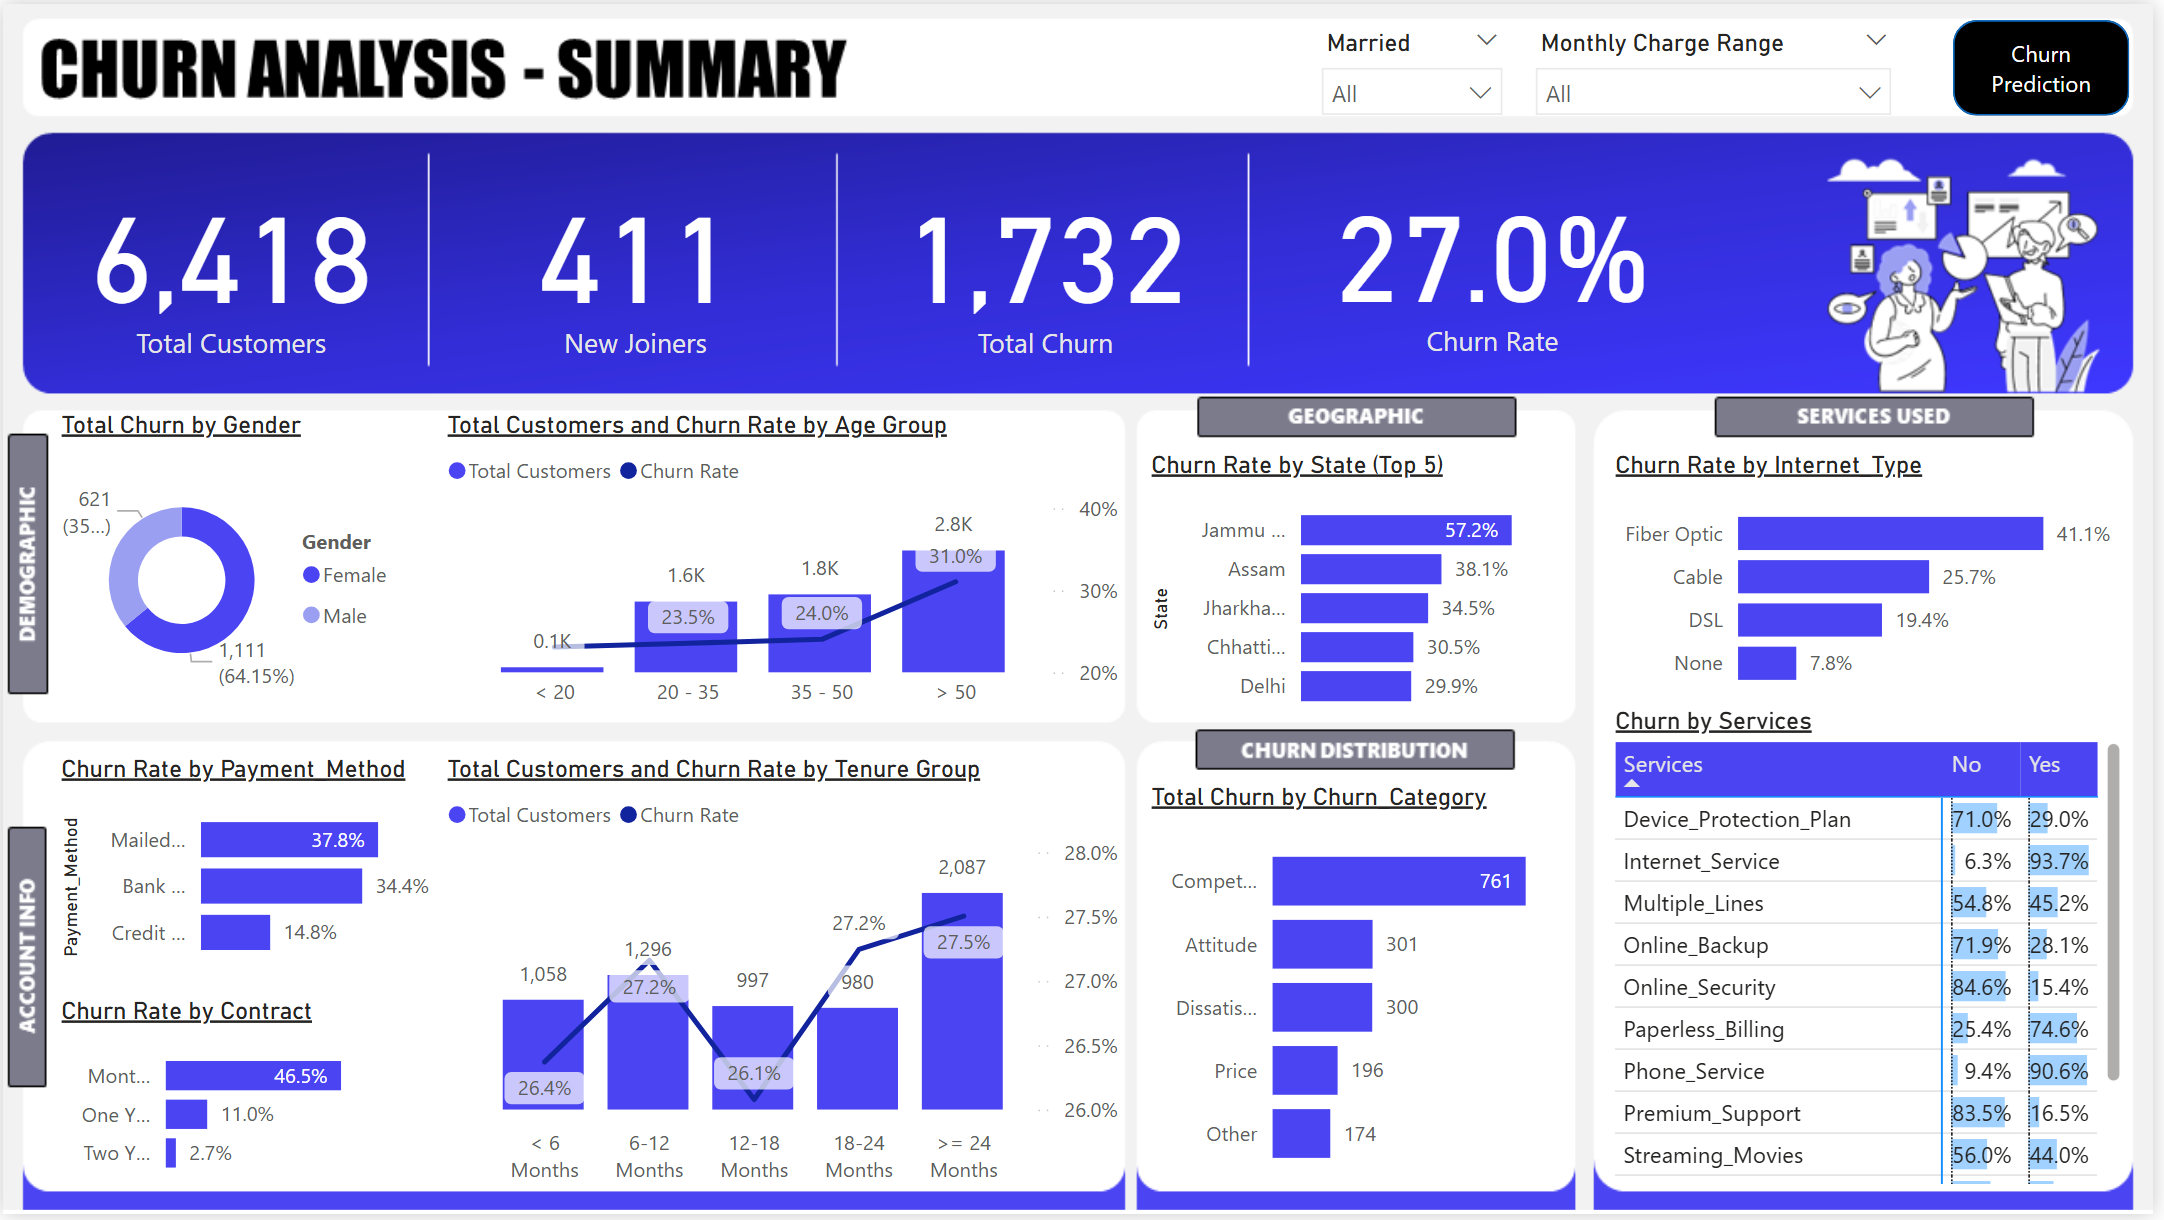

What the dashboard file says about the page in this screenshot:
{"tool":"powerbi","page":{"name":"Summary","canvas":[1280,720],"ordinal":0},"visuals":[{"type":"card","fields":{"Values":["tbl_Measures.Total Customers"]},"box":[17.8,73.9,235.9,158.1],"z":0},{"type":"card","fields":{"Values":["tbl_Measures.New Joiners"]},"box":[256.3,73.9,241,158.1],"z":1000},{"type":"card","fields":{"Values":["tbl_Measures.Total Churn"]},"box":[499.8,73.9,241,158.1],"z":2000},{"type":"card","fields":{"Values":["tbl_Measures.Churn Rate"]},"box":[784.1,76.5,204,151.7],"z":3000},{"type":"donutChart","fields":{"Category":["prod_Churn.Gender"],"Y":["tbl_Measures.Total Churn"]},"box":[29.3,242.2,214.2,186.1],"z":4000},{"type":"clusteredBarChart","fields":{"Category":["prod_Churn.Payment_Method"],"Y":["tbl_Measures.Churn Rate"]},"box":[29.3,446.2,230.8,133.9],"z":5000},{"type":"clusteredBarChart","fields":{"Category":["prod_Churn.Contract"],"Y":["tbl_Measures.Churn Rate"]},"box":[29.3,590.3,214.2,117.3],"z":6000},{"type":"lineStackedColumnComboChart","fields":{"Category":["mapping_TenureGrp.Tenure Group"],"Y":["tbl_Measures.Total Customers"],"Y2":["tbl_Measures.Churn Rate"]},"box":[260.1,446.2,409.2,262.6],"z":7000},{"type":"clusteredBarChart","title":"Churn Rate by State (Top 5)","fields":{"Category":["prod_Churn.State"],"Y":["tbl_Measures.Churn Rate"]},"box":[678.2,265.2,257.5,164.5],"z":8000},{"type":"clusteredBarChart","fields":{"Category":["prod_Churn.Churn_Category"],"Y":["tbl_Measures.Total Churn"]},"box":[678.2,462.8,257.5,244.8],"z":9000},{"type":"clusteredBarChart","fields":{"Category":["prod_Churn.Internet_Type"],"Y":["tbl_Measures.Churn Rate"]},"box":[954.9,265.2,311.1,153],"z":10000},{"type":"pivotTable","title":"Churn by Services","fields":{"Rows":["prod_Services.Services"],"Columns":["prod_Services.Status"],"Values":["Sum(prod_Services.Churn Status)"]},"box":[954.9,418.2,311.1,289.4],"z":11000},{"type":"slicer","fields":{"Values":["prod_Services.Monthly Charge Status"]},"box":[902.4,10,231.7,64.4],"z":12000},{"type":"slicer","fields":{"Values":["prod_Churn.Married"]},"box":[775.2,10,127.3,64.4],"z":13000},{"type":"lineStackedColumnComboChart","fields":{"Category":["mapping_AgeGrp.Age Group"],"Y":["tbl_Measures.Total Customers"],"Y2":["tbl_Measures.Churn Rate"]},"box":[260.1,242.2,409.2,186.1],"z":14000},{"type":"shape","title":"Summary","box":[1161,10,105,57],"z":14001}]}

Visuals, with their boxes in screenshot pixels (x1, y1, x2, y2), scaled from the page's 1280x720 canvas onto the 2164x1220 screenshot:
card - tbl_Measures.Total Customers: x1=30, y1=125, x2=429, y2=393
card - tbl_Measures.New Joiners: x1=433, y1=125, x2=841, y2=393
card - tbl_Measures.Total Churn: x1=845, y1=125, x2=1252, y2=393
card - tbl_Measures.Churn Rate: x1=1326, y1=130, x2=1671, y2=387
donutChart - prod_Churn.Gender x tbl_Measures.Total Churn: x1=50, y1=410, x2=412, y2=726
clusteredBarChart - prod_Churn.Payment_Method x tbl_Measures.Churn Rate: x1=50, y1=756, x2=440, y2=983
clusteredBarChart - prod_Churn.Contract x tbl_Measures.Churn Rate: x1=50, y1=1000, x2=412, y2=1199
lineStackedColumnComboChart - mapping_TenureGrp.Tenure Group x tbl_Measures.Total Customers: x1=440, y1=756, x2=1132, y2=1201
"Churn Rate by State (Top 5)" clusteredBarChart: x1=1147, y1=449, x2=1582, y2=728
clusteredBarChart - prod_Churn.Churn_Category x tbl_Measures.Total Churn: x1=1147, y1=784, x2=1582, y2=1199
clusteredBarChart - prod_Churn.Internet_Type x tbl_Measures.Churn Rate: x1=1614, y1=449, x2=2140, y2=709
"Churn by Services" pivotTable: x1=1614, y1=709, x2=2140, y2=1199
slicer - prod_Services.Monthly Charge Status: x1=1526, y1=17, x2=1917, y2=126
slicer - prod_Churn.Married: x1=1311, y1=17, x2=1526, y2=126
lineStackedColumnComboChart - mapping_AgeGrp.Age Group x tbl_Measures.Total Customers: x1=440, y1=410, x2=1132, y2=726
"Summary" shape: x1=1963, y1=17, x2=2140, y2=114
